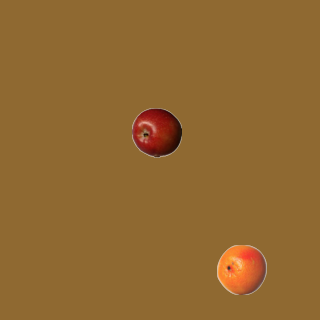Apple Braeburn: (131, 107, 181, 157)
Grapefruit Pink: (216, 244, 266, 294)
